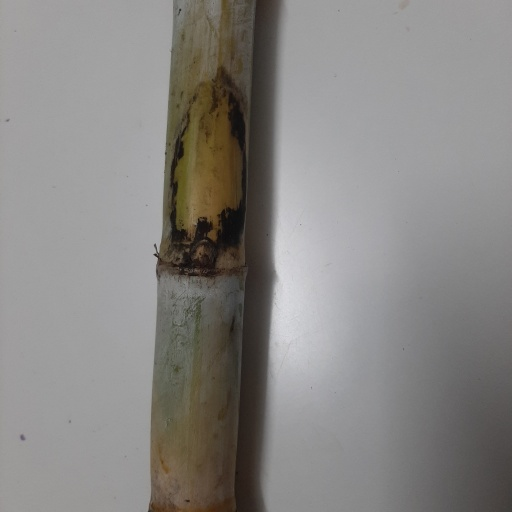Bud: (188, 239, 215, 268)
